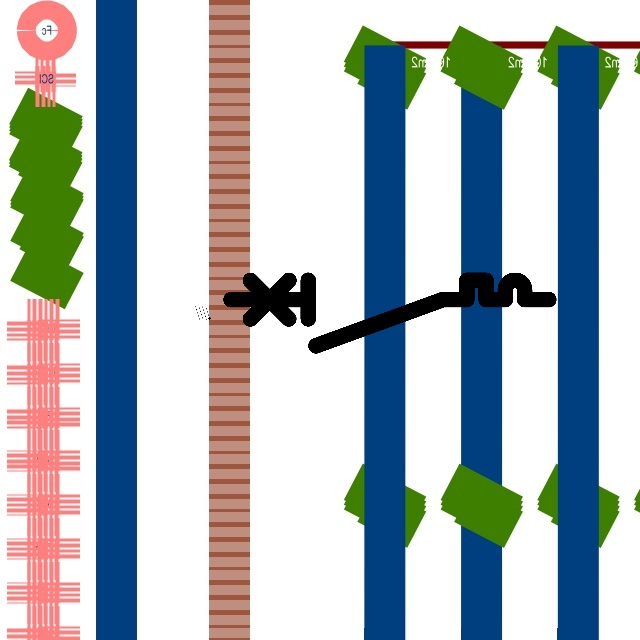interruptor_termomagnetico: (222, 272, 556, 354)
